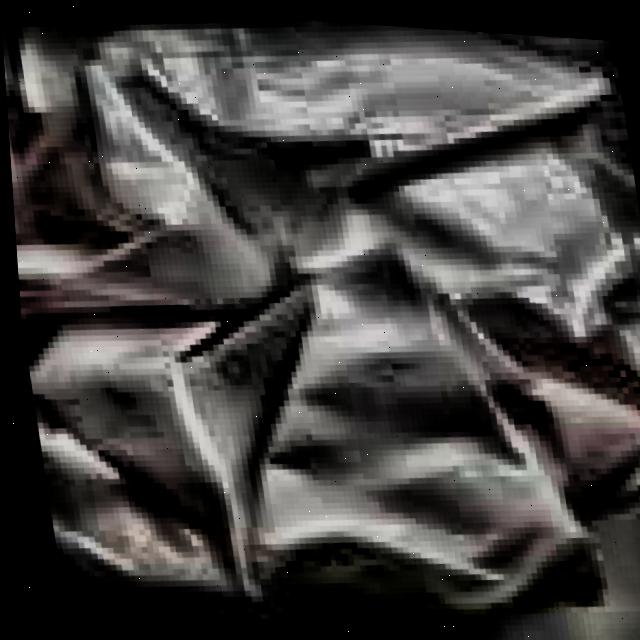paper: (1, 16, 640, 640)
